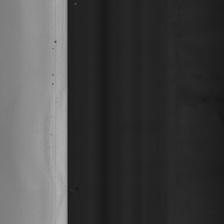oil_spot: (49, 34, 61, 55), (50, 71, 56, 89)
